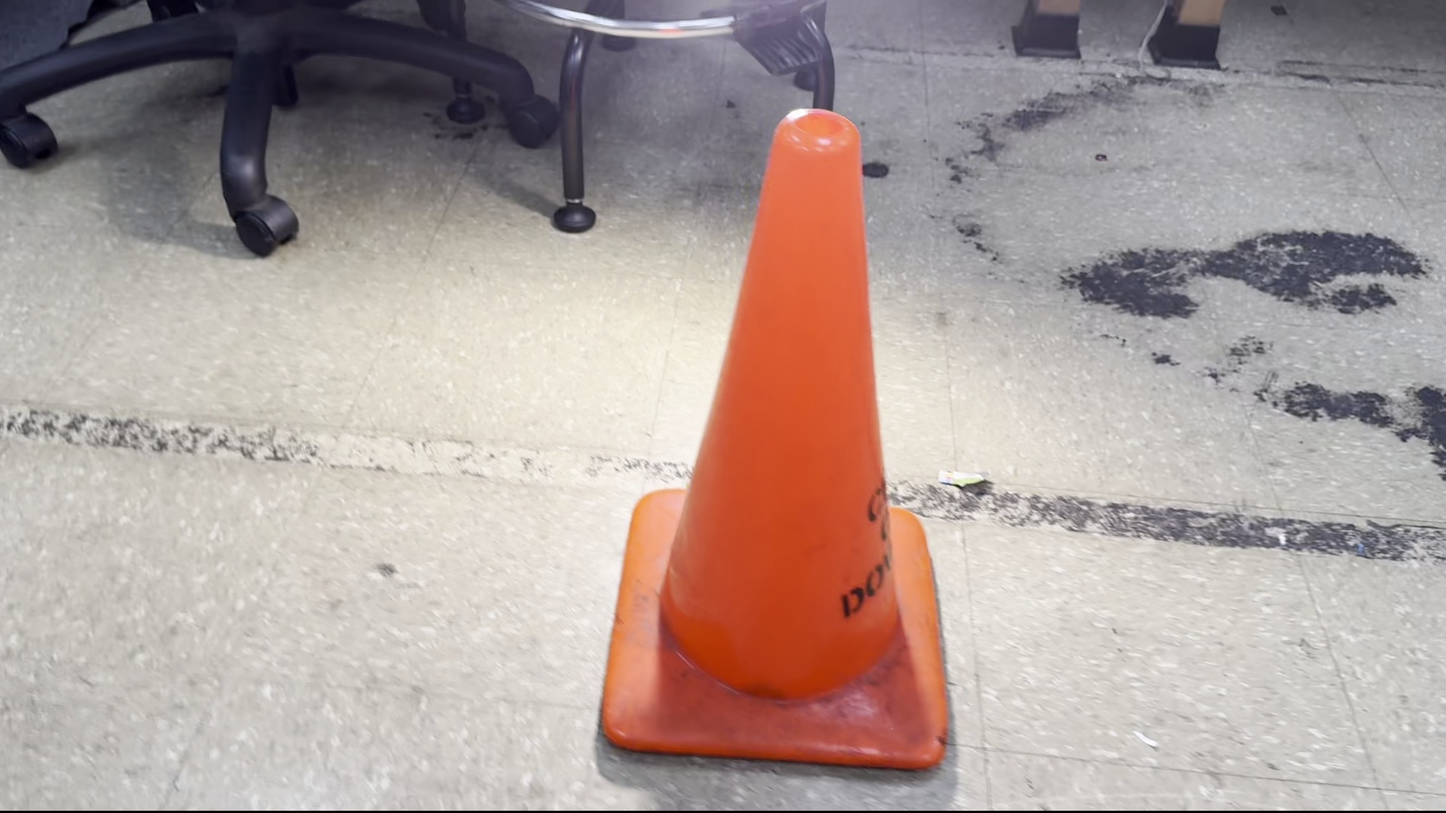traffic_cone: (598, 106, 949, 771)
